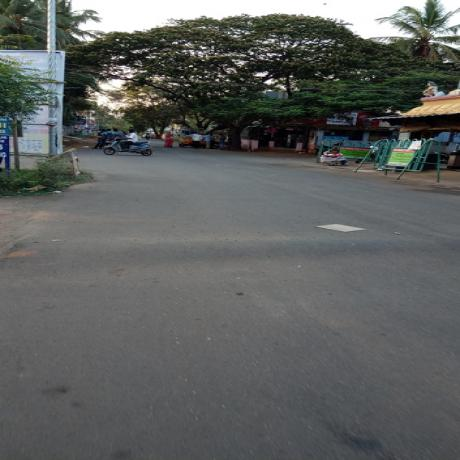Speed Bump: (19, 236, 458, 260)
